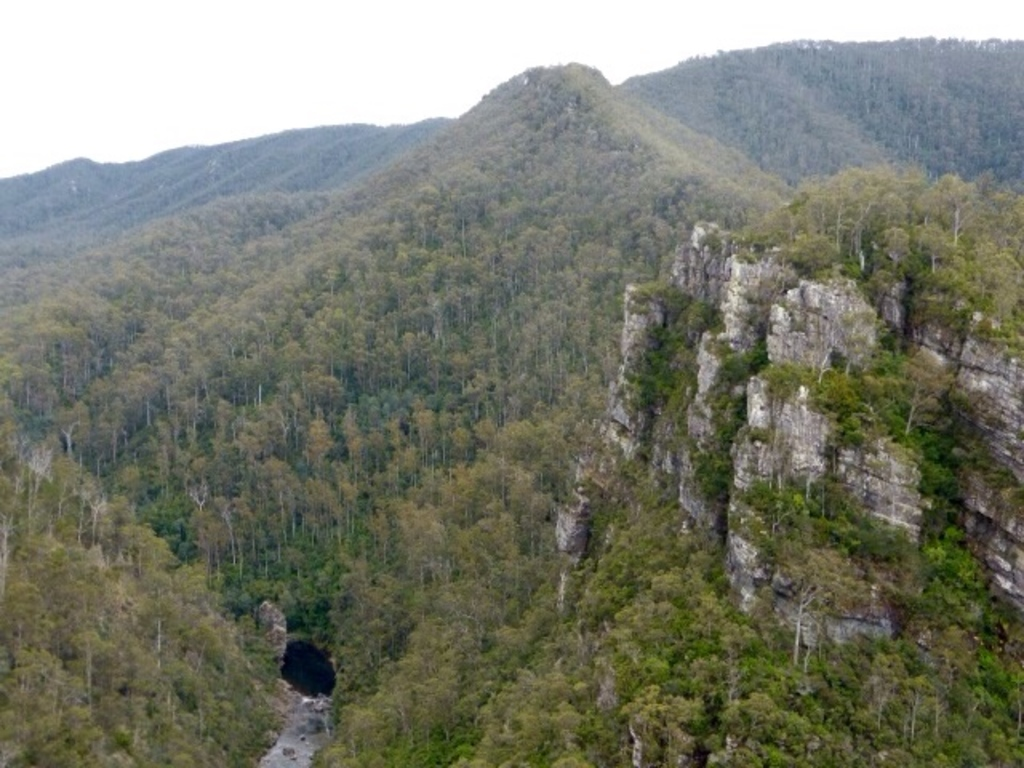Tree: (0, 33, 1023, 768)
